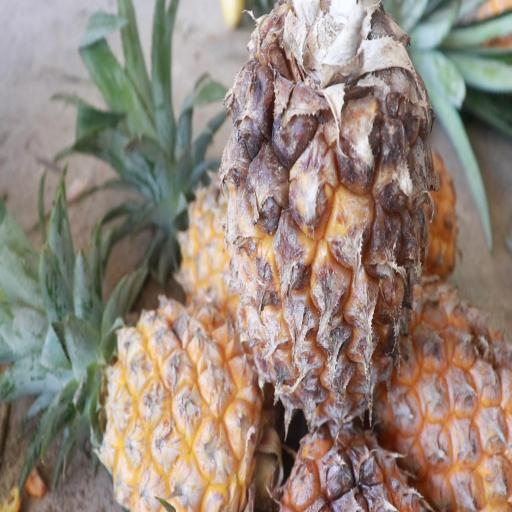Pineapple - v8 v1: (222, 0, 436, 440), (73, 214, 283, 512), (373, 270, 512, 507)
